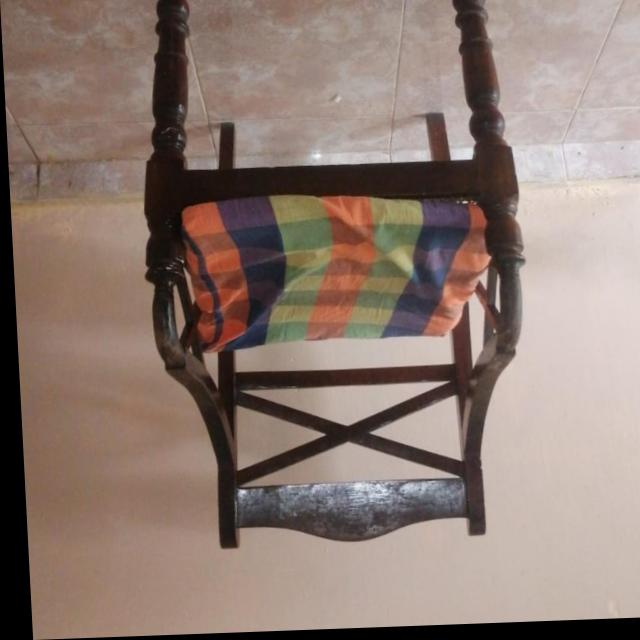Chair: (130, 0, 531, 553)
